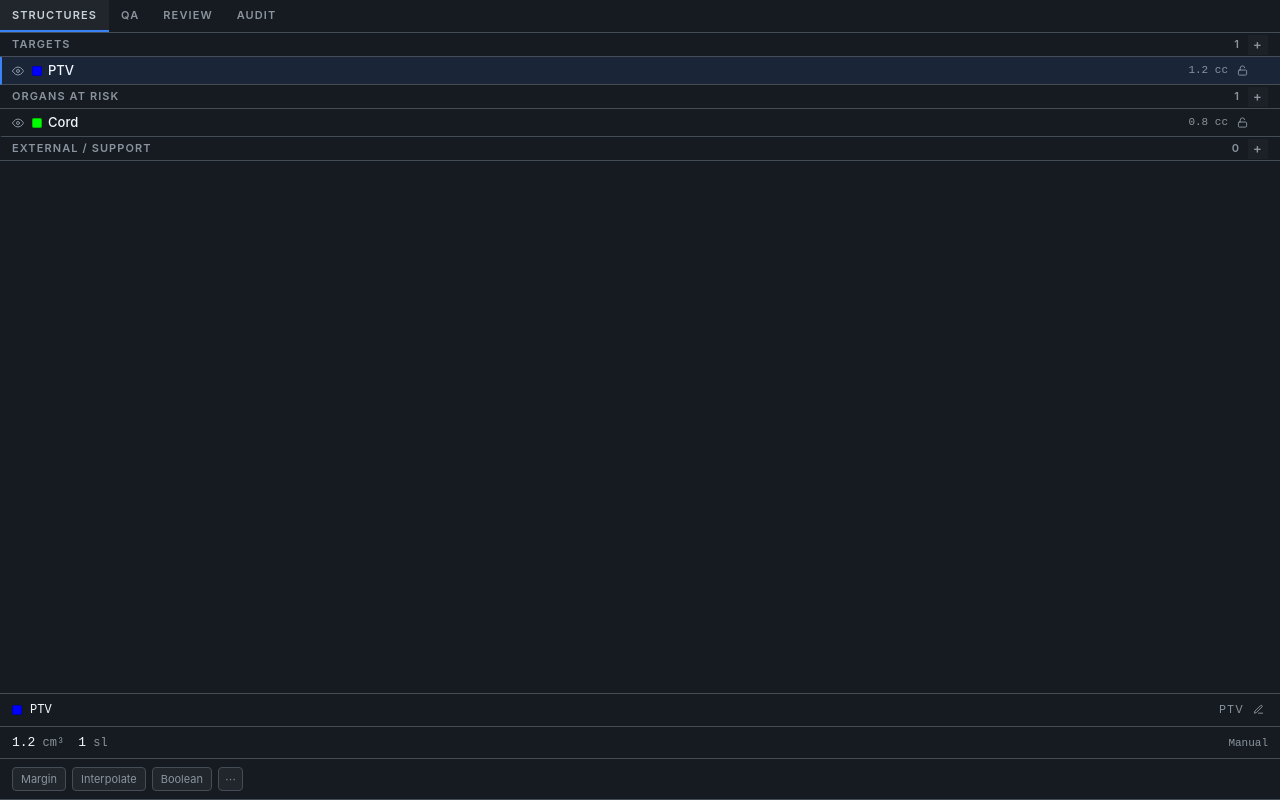
StructurePanel local draft and structure editing interactions › applies boolean subtract to the active structure @links:SRS-014 @testing:T7
The image size is (1280, 800).
Click the button "Boolean" at (182, 779), box [152,767,212,791]
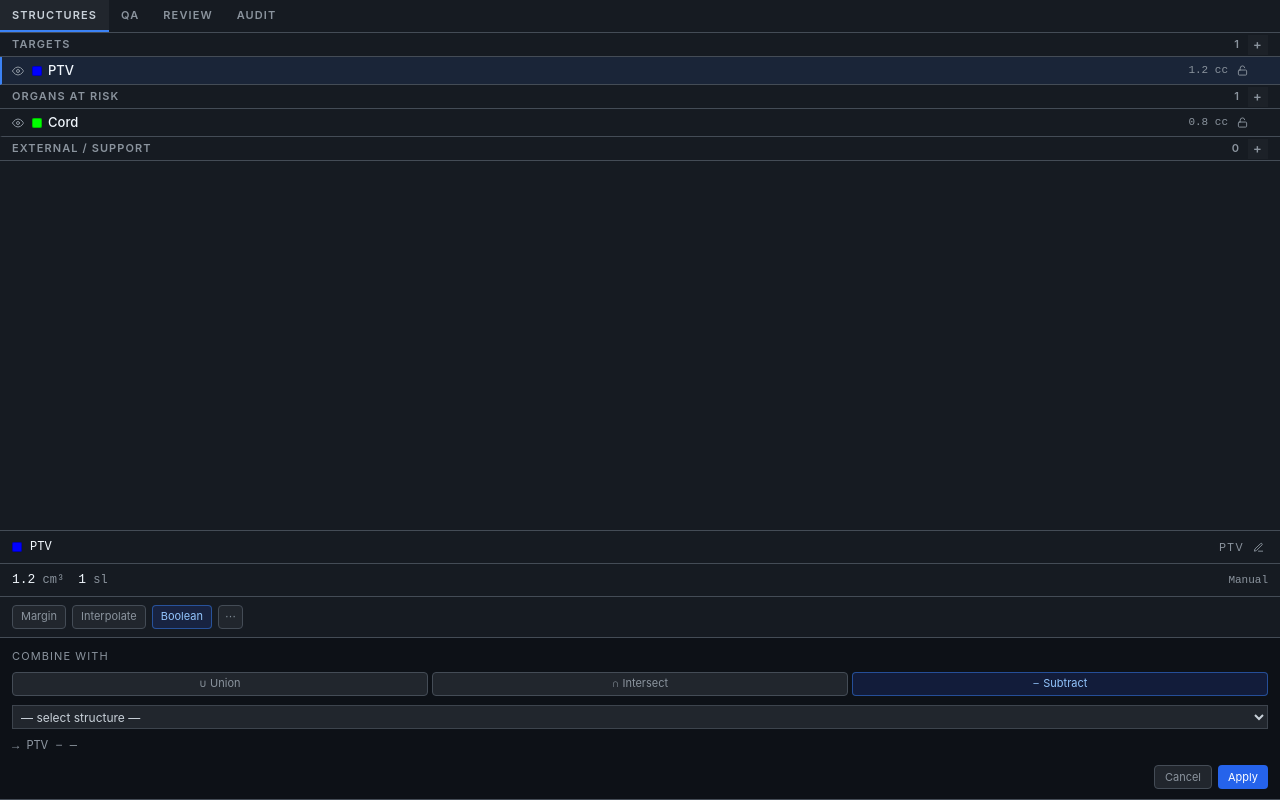
Select "Cord (OAR)" in the dropdown named "Boolean target structure" at (640, 717), box [12,705,1268,729]
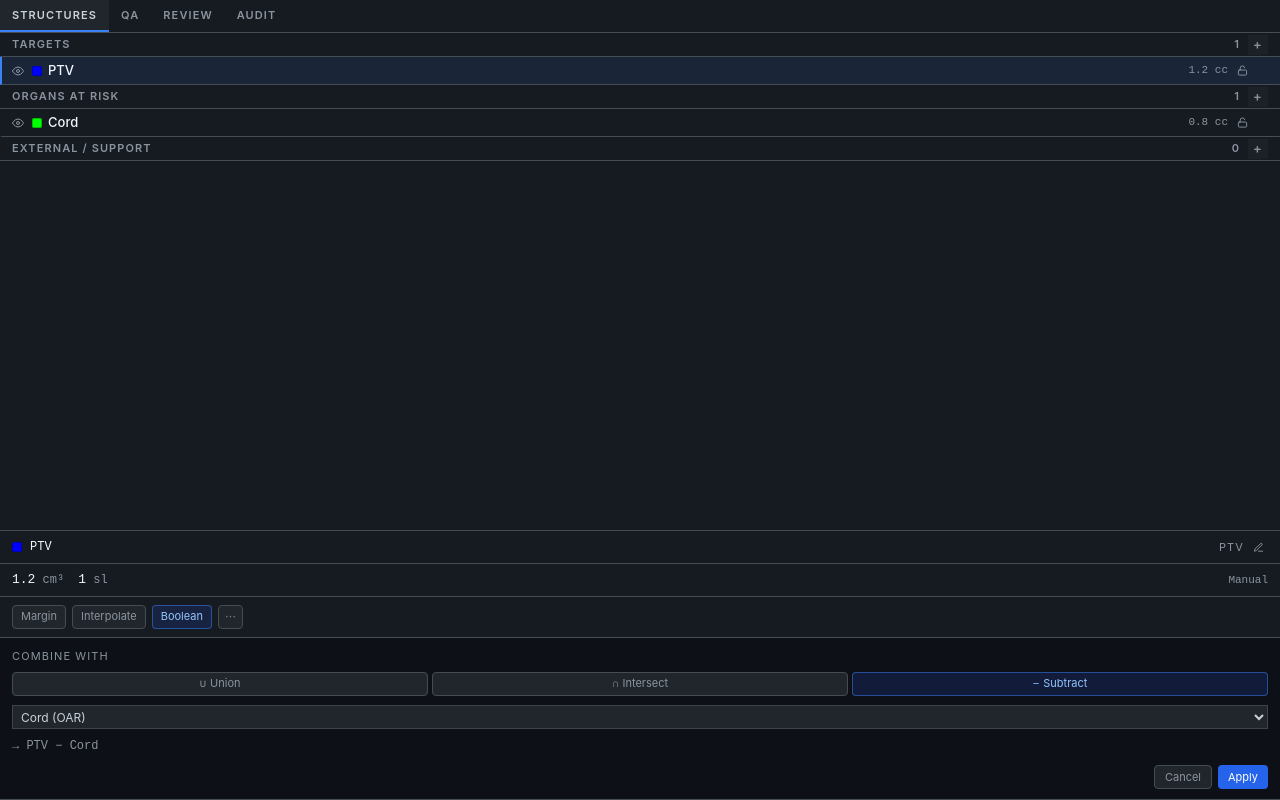
Click the button "Apply" at (1243, 777), box [1218,765,1268,789]
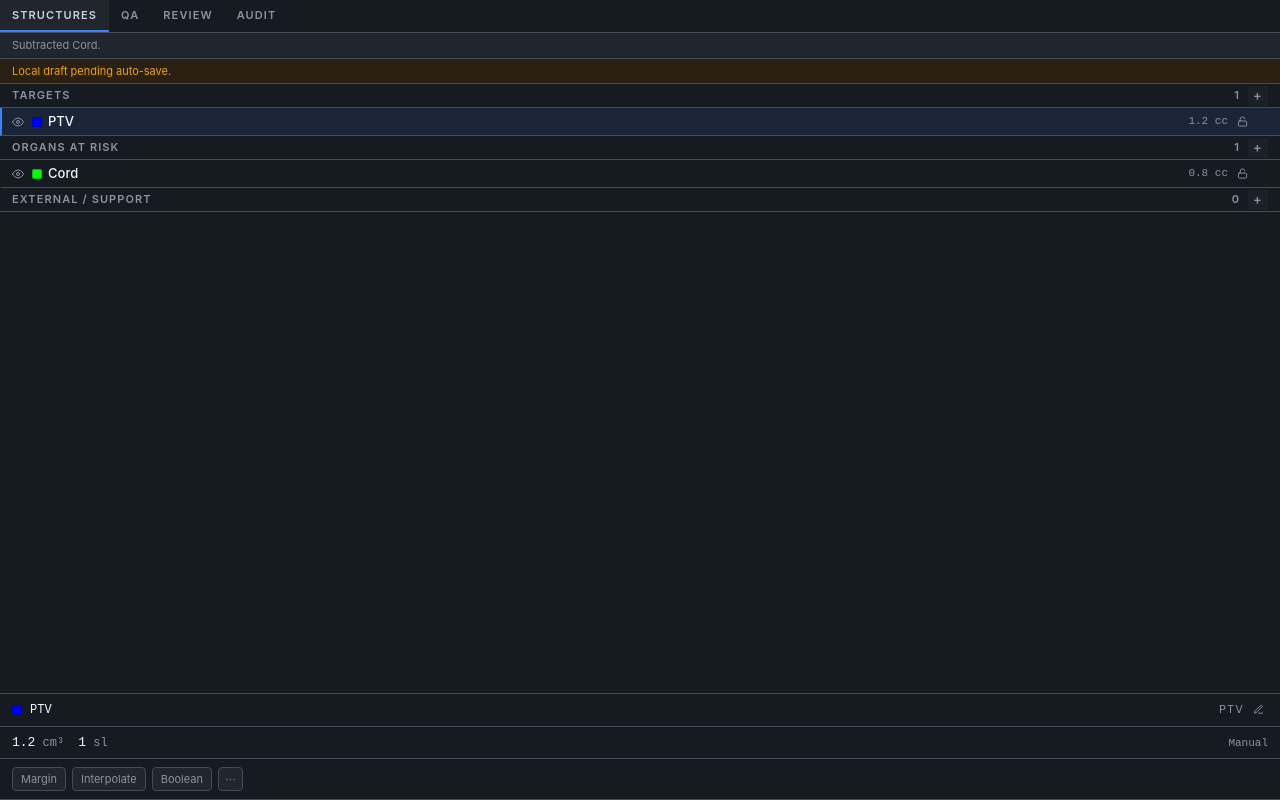
Result: the text "Subtracted Cord." is shown at [0,33,1279,58]
